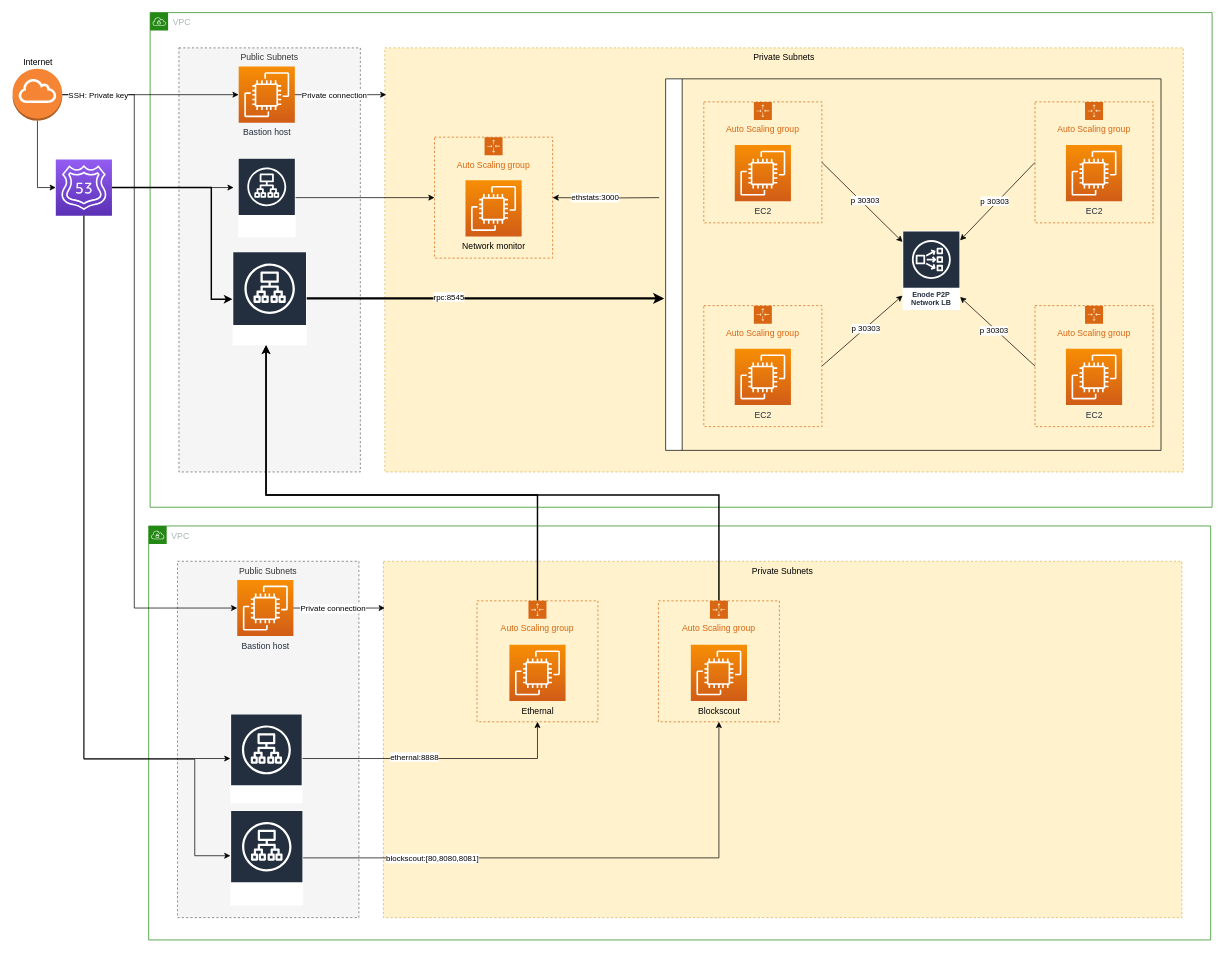
This 1225x953 diagram has some shape labels left out. The centre of each missing label's shape, as x and y in pixels:
"Blockscout Scan ALB" belongs at point 266,857.
"Ethernal Scan ALB" belongs at point 266,758.
"Horizontal Container" belongs at point 913,264.
"Route53" belongs at point 83,187.
"RPC ALB" belongs at point 269,298.
"Stats ALB" belongs at point 266,197.
